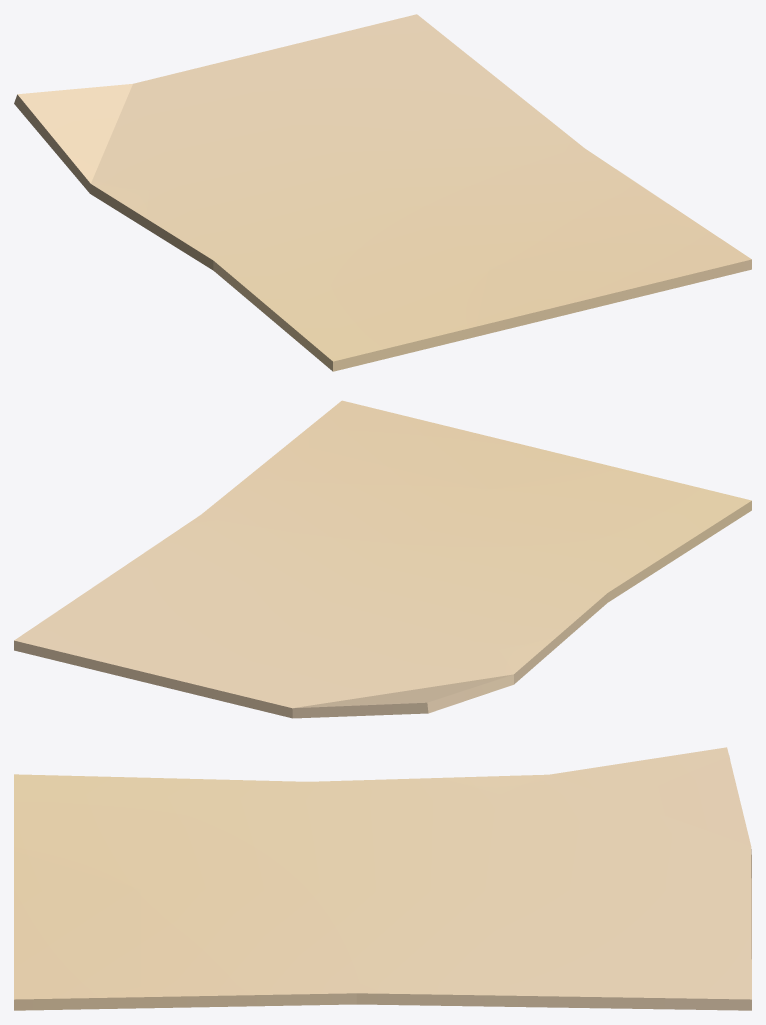
Rendered from Paper_02.glb.
3 renders of one model, top to bottom at view 1: azimuth 30°, elevation 25°; view 2: azimuth 150°, elevation 25°; view 3: azimuth 270°, elevation 25°, orthographic. The views are drawn at different scales.
Parts seen in each view (by area): view 1: Paper_02; view 2: Paper_02; view 3: Paper_02.
Part boxes in pixels (left/top/right/bottom): Paper_02: left=14, top=14, right=751, bottom=371; Paper_02: left=14, top=400, right=751, bottom=718; Paper_02: left=14, top=747, right=751, bottom=1010.
Size of the model in its own units: 0.224 by 0.0197 by 0.3103.
Materials: 1 (1 with a texture image).
